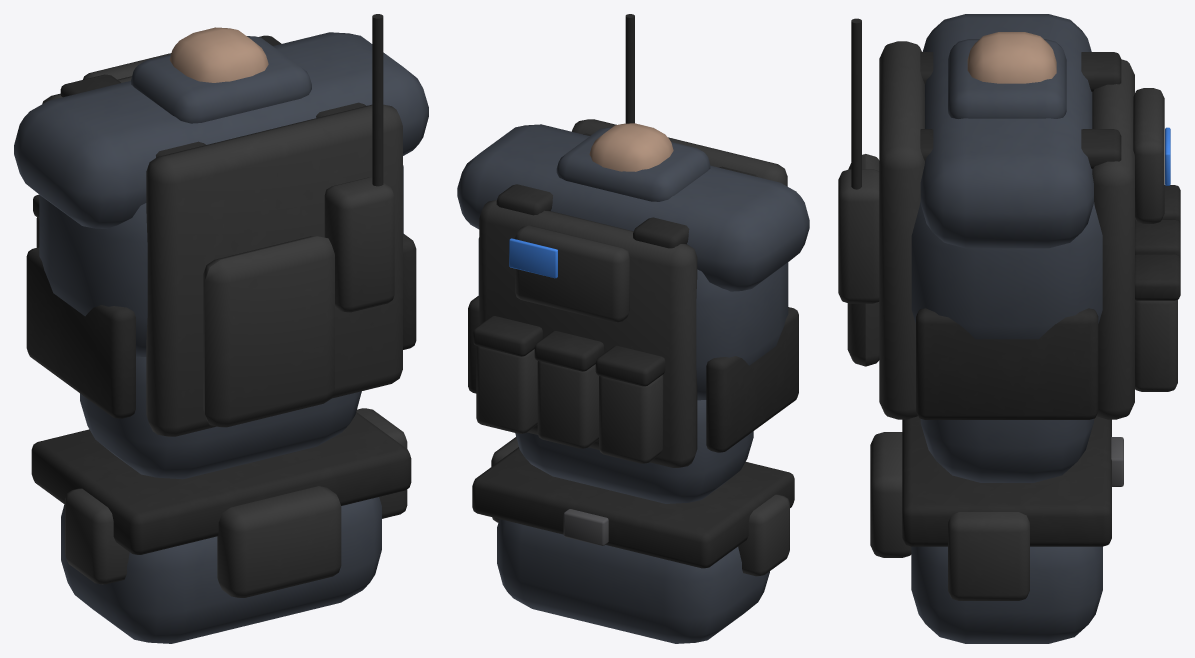
The model's file is SM_OperatorBTorso.fbx.
The picture shows the model from 3 angles, left to right: view 1: azimuth 30°, elevation 25°; view 2: azimuth 150°, elevation 25°; view 3: azimuth 270°, elevation 25°; orthographic projection. The views are drawn at different scales.
Visible parts, largest first — view 1: SM_OperatorBTorso; view 2: SM_OperatorBTorso; view 3: SM_OperatorBTorso.
Part boxes in pixels (bbox=[...]): SM_OperatorBTorso: bbox=[14, 14, 428, 643]; SM_OperatorBTorso: bbox=[457, 14, 809, 643]; SM_OperatorBTorso: bbox=[838, 14, 1180, 643].
Size of the model in its own units: 0.45 by 0.745 by 0.375.
Materials: 1 (1 with a texture image).
